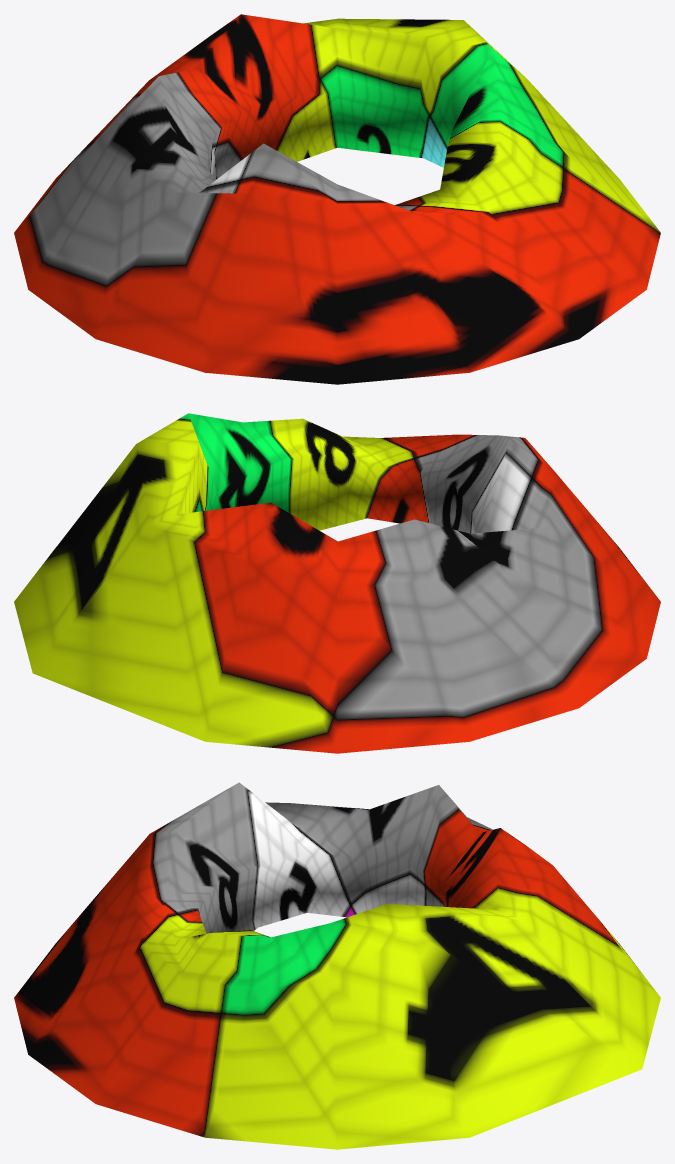
The model's file is Tunnel Cap 2.fbx.
The picture shows the model from 3 angles, top to bottom: view 1: azimuth 30°, elevation 25°; view 2: azimuth 150°, elevation 25°; view 3: azimuth 270°, elevation 25°; orthographic projection.
Parts seen in each view (by area): view 1: Tunne_Cap_2; view 2: Tunne_Cap_2; view 3: Tunne_Cap_2.
Boxes of the visible parts, left/top/right/bottom form: Tunne_Cap_2: left=14, top=14, right=660, bottom=384; Tunne_Cap_2: left=14, top=413, right=660, bottom=753; Tunne_Cap_2: left=14, top=782, right=660, bottom=1149.
Bounding box in the file's own units: 33.12 × 10.05 × 33.3.
Materials: 1 (1 with a texture image).
